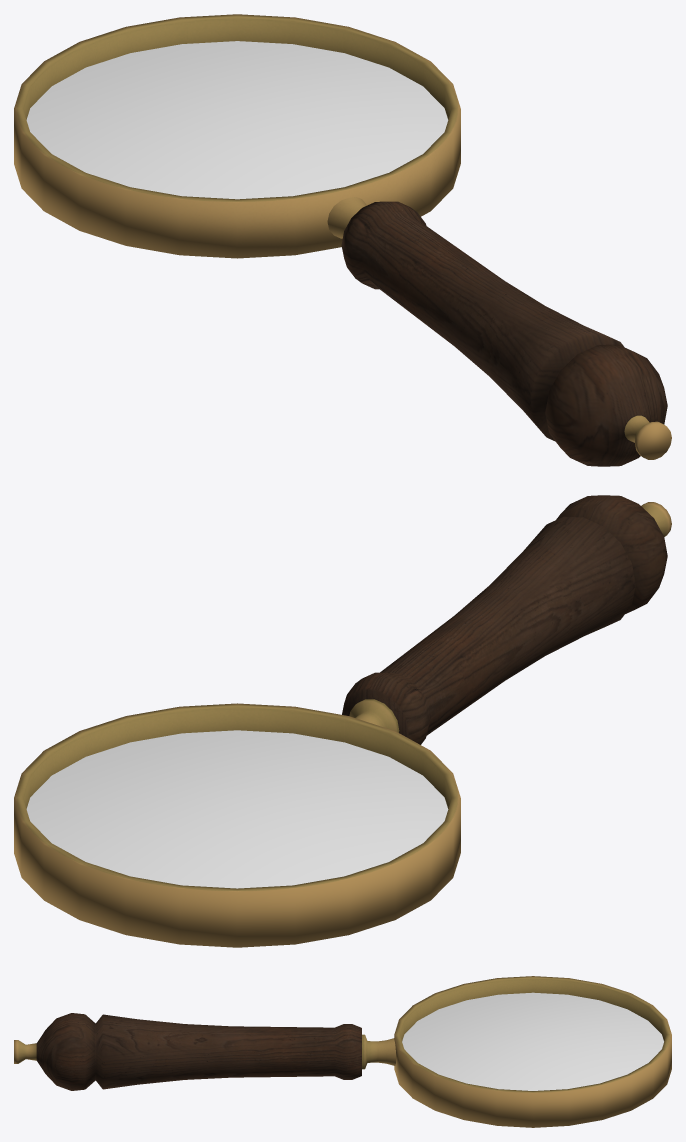
Rendered from magnifying_glass_01.fbx.
3 views of the same model, one above another, from view 1: azimuth 30°, elevation 25°; view 2: azimuth 150°, elevation 25°; view 3: azimuth 270°, elevation 25° (orthographic). The views are drawn at different scales.
Visible parts, largest first — view 1: magnifying_glass_01; view 2: magnifying_glass_01; view 3: magnifying_glass_01.
Part boxes in pixels (<box>): magnifying_glass_01: <box>14,14,671,466</box>; magnifying_glass_01: <box>14,495,671,947</box>; magnifying_glass_01: <box>14,976,671,1127</box>.
Bounding box in the file's own units: 19.59 × 5.52 × 46.42.
